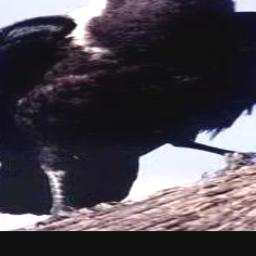Crow: (0, 0, 256, 222)
